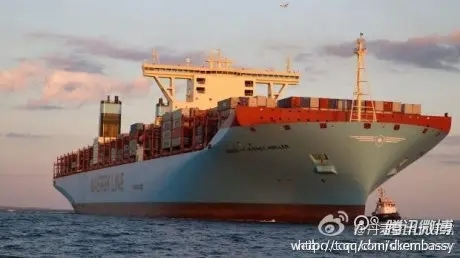Cargoship: (43, 30, 452, 219)
otherboat: (358, 188, 415, 223)
